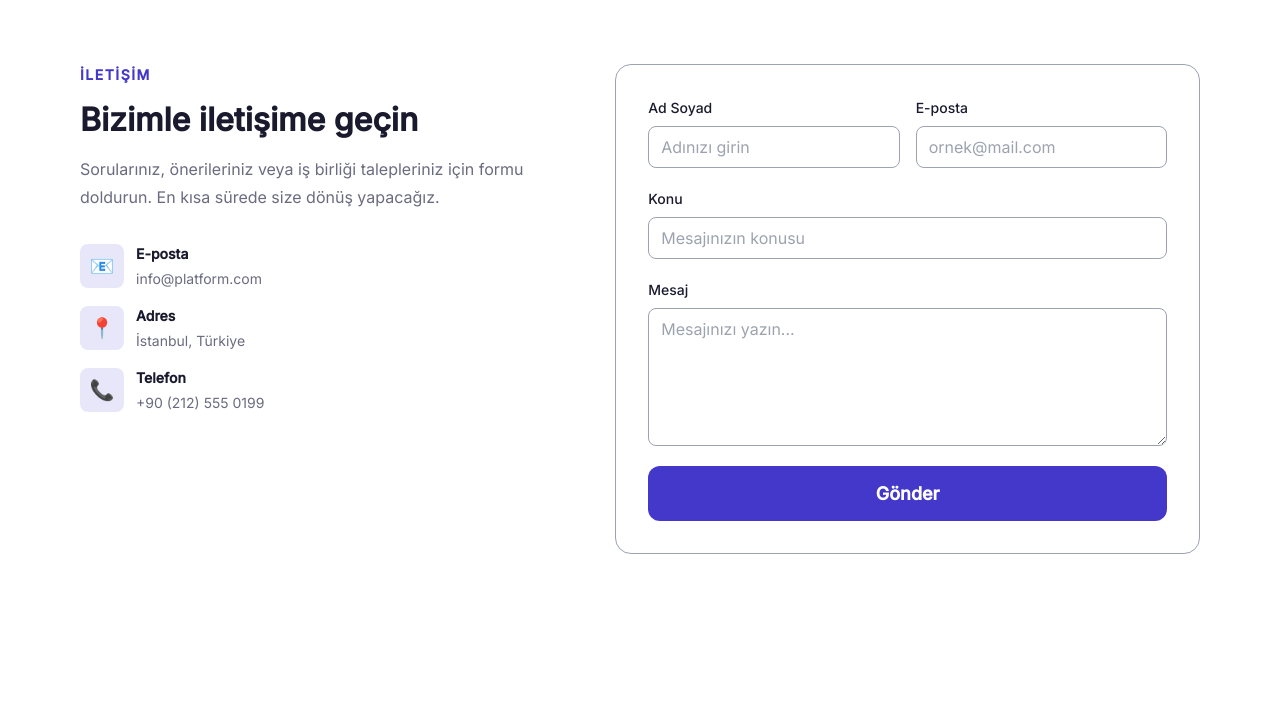
Contact Form › shows errors on empty submit
The width and height of the screenshot is (1280, 720).
Click the button "Gönder": click(908, 494) x1=648 y1=466 x2=1167 y2=521
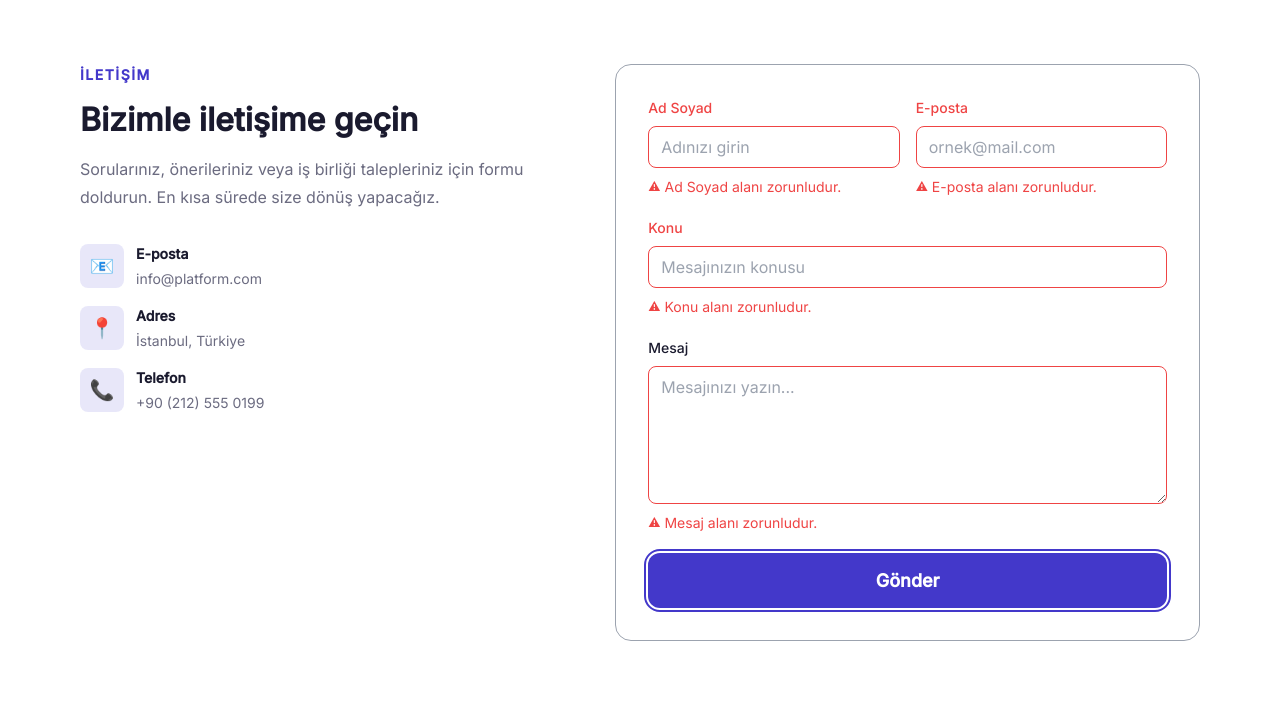
expect the text "Ad Soyad alanı zorunludur." is shown: met, box x1=664 y1=178 x2=841 y2=195
expect the text "E-posta alanı zorunludur." is shown: met, box x1=932 y1=178 x2=1097 y2=195
